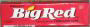grozi_7: (0, 0, 89, 26)
